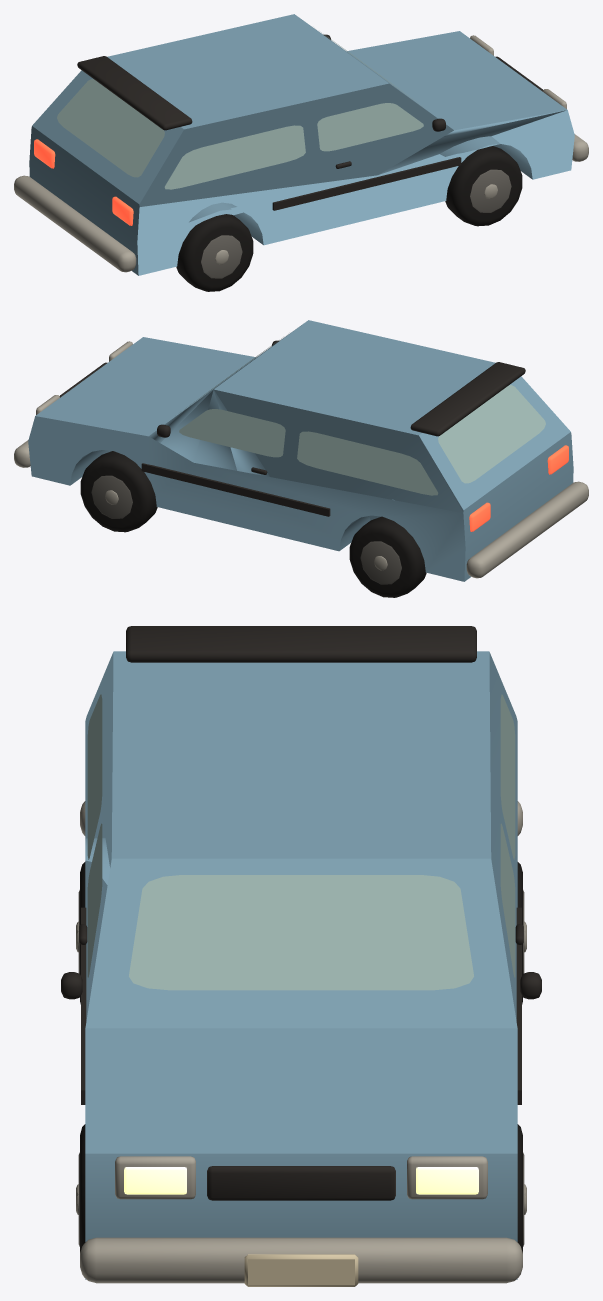
The model's file is hatch80.glb.
3 views of the same model, one above another, from view 1: azimuth 30°, elevation 25°; view 2: azimuth 150°, elevation 25°; view 3: azimuth 270°, elevation 25° (orthographic). The views are drawn at different scales.
Visible parts, largest first — view 1: Hatch80, Hatch80_Wheel_FR, Hatch80_Wheel_RR; view 2: Hatch80, Hatch80_Wheel_RL, Hatch80_Wheel_FL; view 3: Hatch80, Hatch80_Wheel_FL, Hatch80_Wheel_FR.
Boxes of the visible parts, <box> form: Hatch80: <box>14,14,588,275</box>; Hatch80_Wheel_FR: <box>445,146,522,226</box>; Hatch80_Wheel_RR: <box>176,214,253,291</box>; Hatch80: <box>14,320,588,581</box>; Hatch80_Wheel_RL: <box>349,516,426,597</box>; Hatch80_Wheel_FL: <box>80,451,157,532</box>; Hatch80: <box>61,626,541,1286</box>; Hatch80_Wheel_FL: <box>517,1124,526,1252</box>; Hatch80_Wheel_FR: <box>76,1124,85,1252</box>.
Size of the model in its own units: 4.05 by 1.39 by 1.78.
